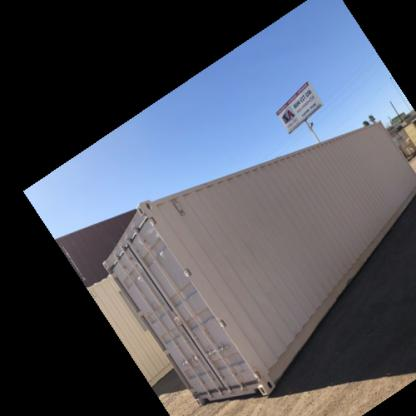Damage: (357, 145, 374, 179)
